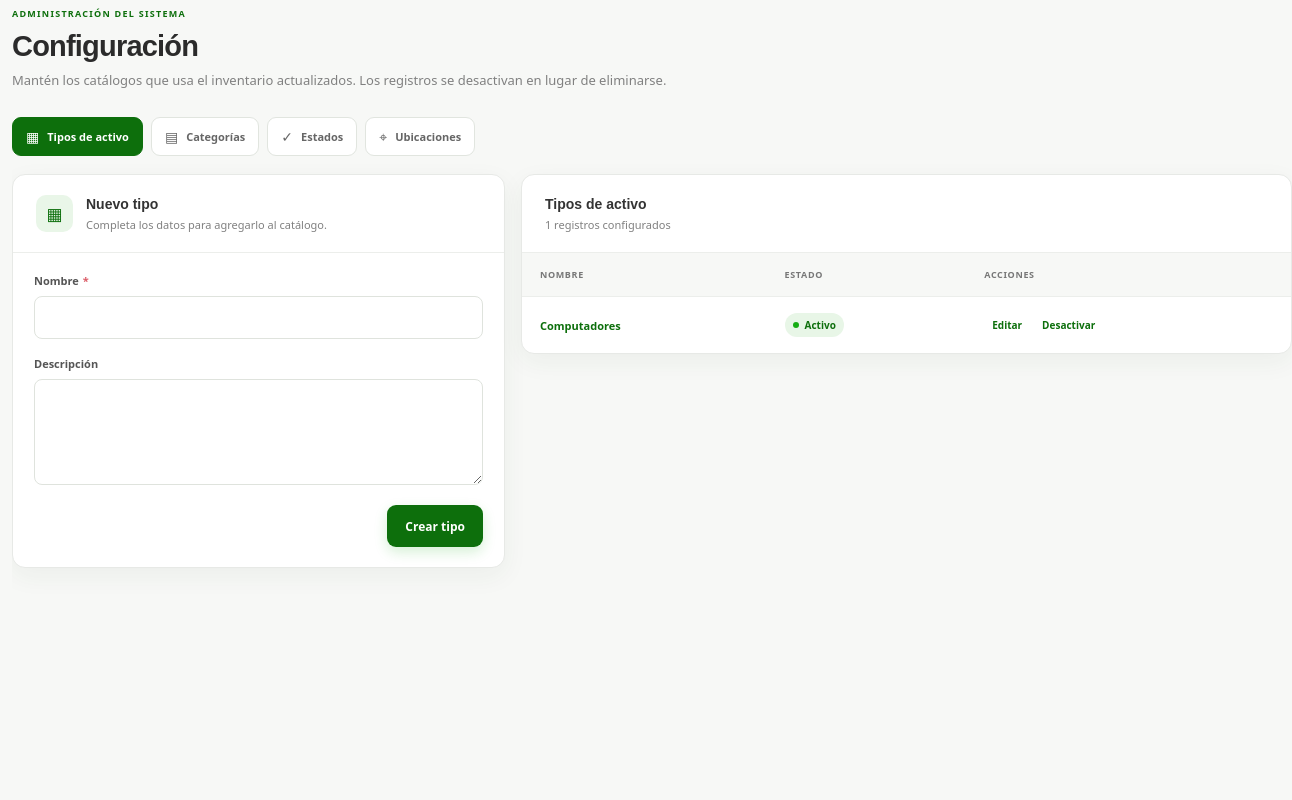
Test case: Configuración de catálogos › desactiva un registro sin borrarlo
Check: the cell "Computadores" is shown, box x1=522 y1=297 x2=767 y2=353
Click the button "Desactivar" at (1069, 325), box x1=1034 y1=312 x2=1103 y2=338
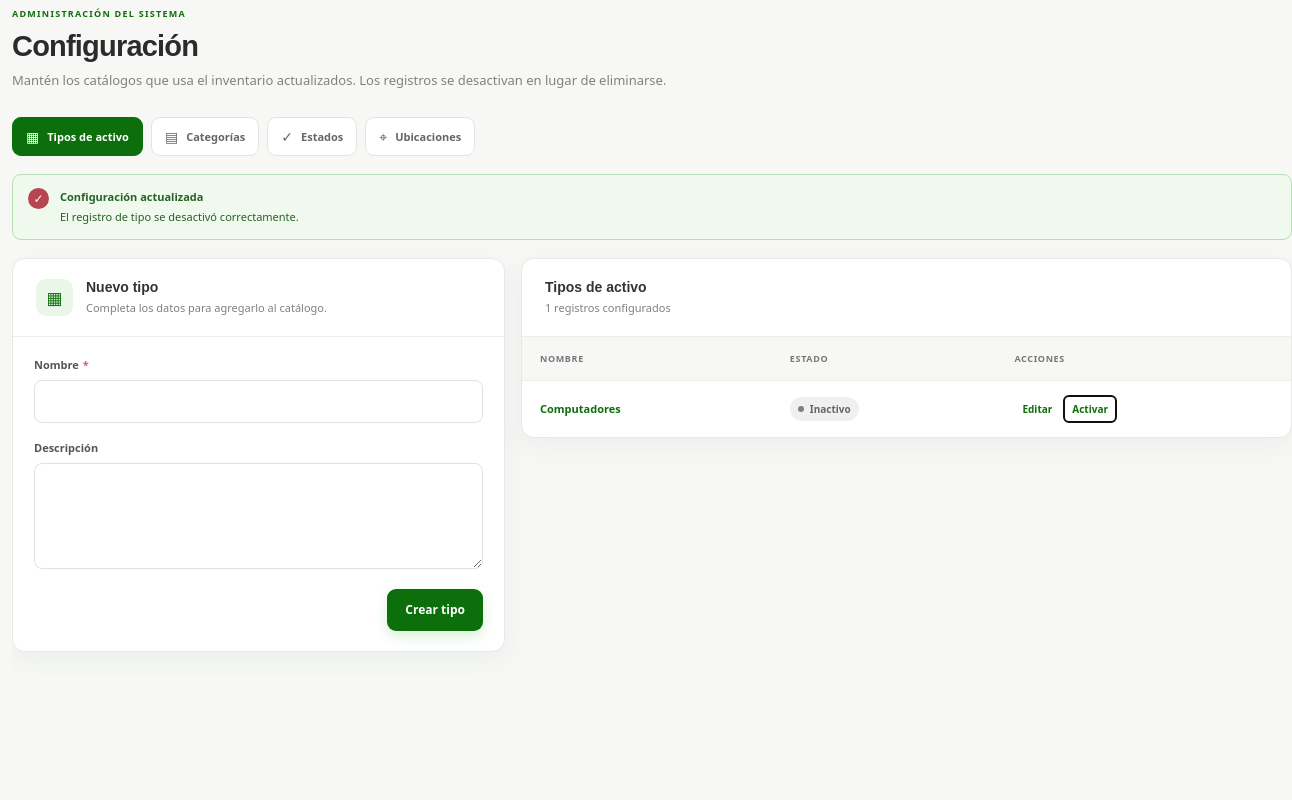
Check: the text "Inactivo" is shown, box x1=790 y1=397 x2=859 y2=421
